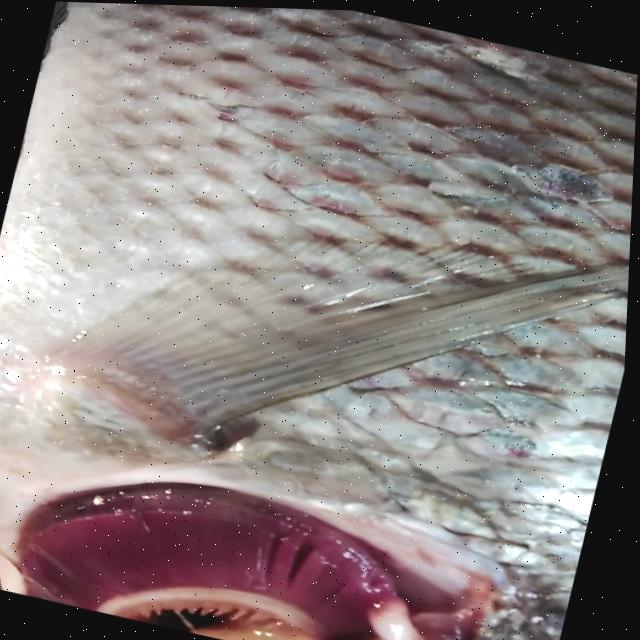Fresh: (0, 434, 494, 640)
